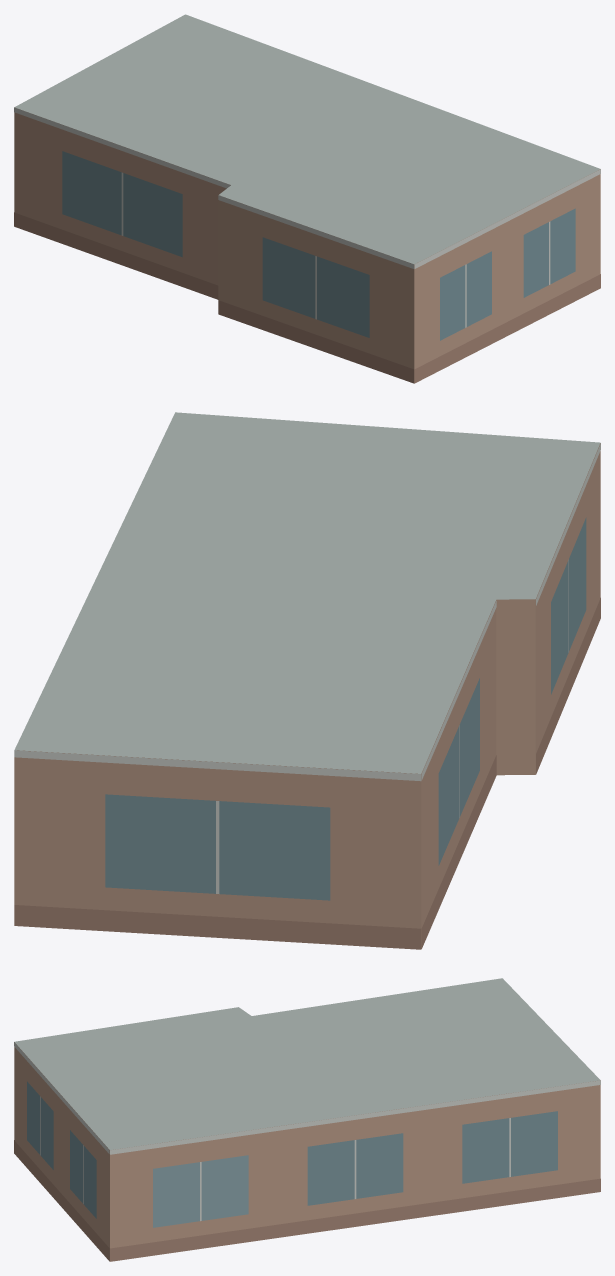
Rendered from survey-upis-32908238.glb.
The picture shows the model from 3 angles, top to bottom: view 1: azimuth 30°, elevation 25°; view 2: azimuth 150°, elevation 25°; view 3: azimuth 270°, elevation 25°; orthographic projection. The views are drawn at different scales.
Parts seen in each view (by area): view 1: survey-upis-32908238.tmp; view 2: survey-upis-32908238.tmp; view 3: survey-upis-32908238.tmp.
Boxes of the visible parts, x1=… form: survey-upis-32908238.tmp: x1=14, y1=14, x2=600, y2=383; survey-upis-32908238.tmp: x1=14, y1=412, x2=600, y2=949; survey-upis-32908238.tmp: x1=14, y1=978, x2=600, y2=1261.
Bounding box in the file's own units: 10.1 × 3.05 × 14.55.
